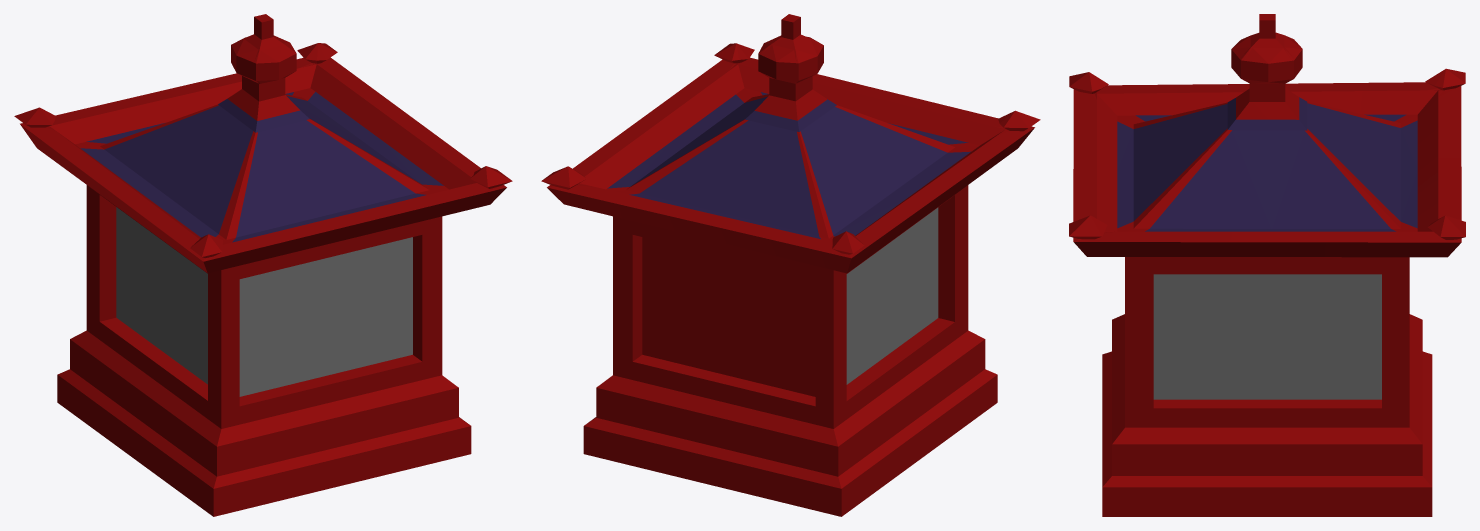
The model's file is kiosque_jap.FBX.
3 renders of one model, left to right at view 1: azimuth 30°, elevation 25°; view 2: azimuth 150°, elevation 25°; view 3: azimuth 270°, elevation 25°, orthographic. The views are drawn at different scales.
Parts seen in each view (by area): view 1: temple; view 2: temple; view 3: temple.
Boxes of the visible parts, <box> form: temple: <box>14,14,512,516</box>; temple: <box>541,14,1040,516</box>; temple: <box>1069,14,1465,516</box>.
Size of the model in its own units: 9.95 by 12.51 by 10.38.
